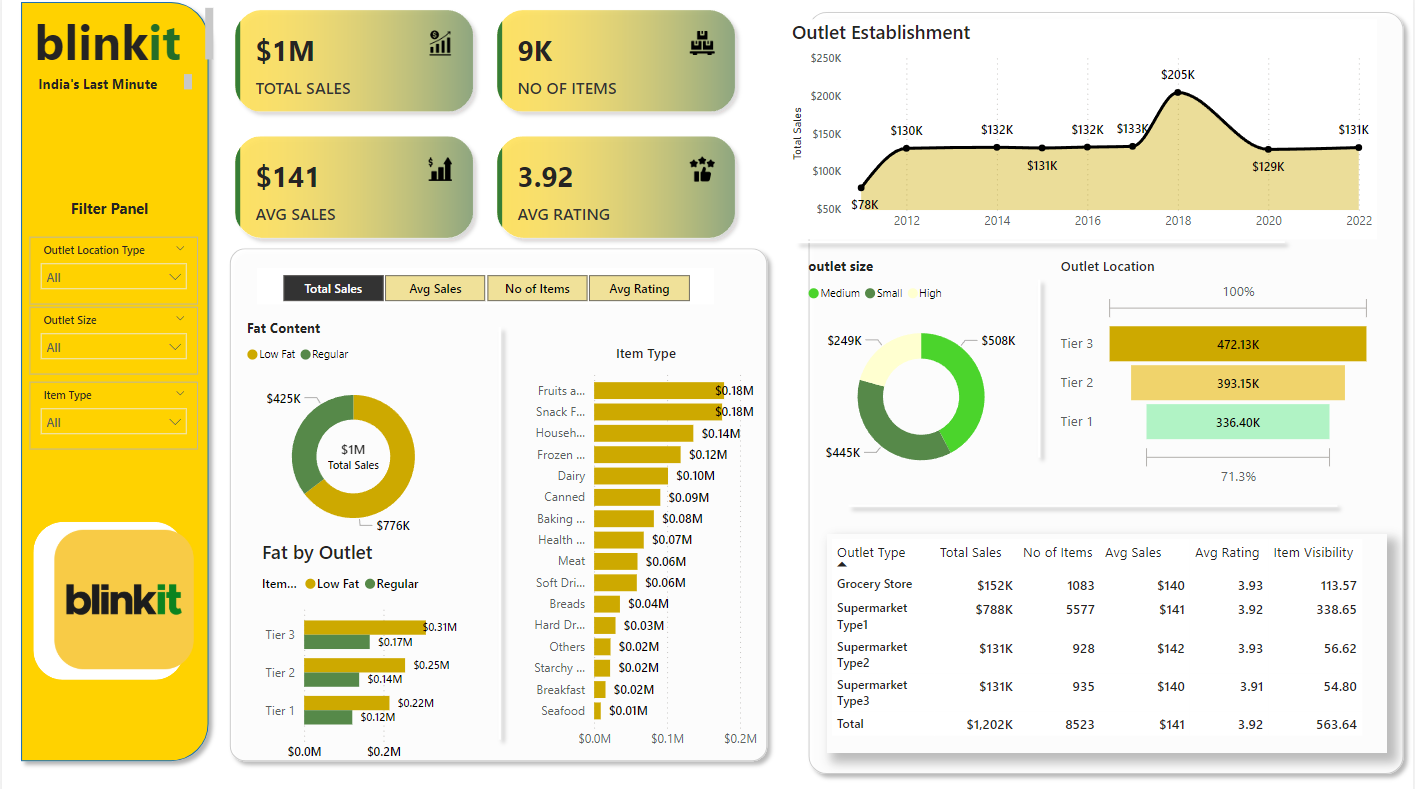

What the dashboard file says about the page in this screenshot:
{"tool":"powerbi","page":{"name":"Page 1","canvas":[1400,800],"ordinal":0},"visuals":[{"type":"shape","box":[10.5,0,204.1,771.4],"z":0},{"type":"textbox","box":[27.1,10,187.1,67.1],"z":1000},{"type":"textbox","box":[31.2,76.2,162.5,30],"z":2000},{"type":"cardVisual","fields":{"Data":["BlinkIT Grocery Data.Total Sales","BlinkIT Grocery Data.No of Items","BlinkIT Grocery Data.Avg Sales","BlinkIT Grocery Data.Avg Rating"]},"box":[215,0,531.7,261.7],"z":3000},{"type":"shape","box":[217.1,244.3,551.4,527.1],"z":3001},{"type":"donutChart","title":"Fat Content","fields":{"Category":["BlinkIT Grocery Data.Item Fat Content"],"Y":["BlinkIT Grocery Data.Total Sales"]},"box":[238.6,322.9,221.4,230],"z":3002},{"type":"slicer","fields":{"Values":["Metrics.Metrics"]},"box":[253.6,273.2,453.3,36],"z":3003},{"type":"cardVisual","fields":{"Data":["BlinkIT Grocery Data.Total Sales"]},"box":[302.9,427.1,92.9,57.1],"z":3004},{"type":"clusteredBarChart","title":"Fat by Outlet","fields":{"Y":["BlinkIT Grocery Data.Total Sales"],"Category":["BlinkIT Grocery Data.Outlet Location Type"],"Series":["BlinkIT Grocery Data.Item Fat Content"]},"box":[253.6,541.8,220.6,229.6],"z":3005},{"type":"shape","box":[454.3,322.9,80,427.1],"z":3006},{"type":"barChart","title":"Item Type","fields":{"Category":["BlinkIT Grocery Data.Item Type"],"Y":["BlinkIT Grocery Data.Total Sales"]},"box":[510,347.1,258.6,411.4],"z":3007},{"type":"shape","box":[791.4,10,608.6,774.3],"z":3008},{"type":"lineChart","title":"Outlet Establishment","fields":{"Y":["BlinkIT Grocery Data.Total Sales"],"Category":["BlinkIT Grocery Data.Outlet Establishment Year"]},"box":[778.6,25.7,585.7,218.6],"z":3009},{"type":"shape","box":[778.6,231.4,502.9,30],"z":3010},{"type":"donutChart","title":"outlet size ","fields":{"Y":["BlinkIT Grocery Data.Total Sales"],"Category":["BlinkIT Grocery Data.Outlet Size"]},"box":[795.7,261.4,234.3,232.9],"z":3011},{"type":"shape","box":[1000,275.7,58.6,194.3],"z":3012},{"type":"funnel","title":"Outlet Location","fields":{"Category":["BlinkIT Grocery Data.Outlet Location Type"],"Y":["Sum(BlinkIT Grocery Data.Sales)"]},"box":[1045.7,261.4,318.6,232.9],"z":3013},{"type":"shape","box":[831.4,494.3,502.9,30],"z":3014},{"type":"pivotTable","fields":{"Rows":["BlinkIT Grocery Data.Outlet Type"],"Values":["BlinkIT Grocery Data.Total Sales","BlinkIT Grocery Data.No of Items","BlinkIT Grocery Data.Avg Sales","BlinkIT Grocery Data.Avg Rating","Sum(BlinkIT Grocery Data.Item Visibility)"]},"box":[818.6,537.1,555.7,217.1],"z":3015},{"type":"slicer","fields":{"Values":["BlinkIT Grocery Data.Outlet Location Type"]},"box":[27.1,241.4,167.1,67.1],"z":3016},{"type":"slicer","fields":{"Values":["BlinkIT Grocery Data.Outlet Size"]},"box":[27.1,311.4,167.1,67.1],"z":3017},{"type":"slicer","fields":{"Values":["BlinkIT Grocery Data.Item Type"]},"box":[27.1,385.7,167.1,67.1],"z":3018},{"type":"textbox","box":[62.9,198.6,97.1,32.9],"z":3019},{"type":"shape","box":[31.4,524.3,150,157.1],"z":3020},{"type":"image","box":[47.1,524.3,148.6,154.3],"z":3021}]}

Visuals, with their boxes in screenshot pixels (x1, y1, x2, y2), scaled from the page's 1400x800 canvas onto the 1415x789 screenshot:
shape: 11/0/217/761
textbox: 27/10/216/76
textbox: 32/75/196/105
cardVisual - BlinkIT Grocery Data.Total Sales x BlinkIT Grocery Data.No of Items: 217/0/755/258
shape: 219/241/777/761
"Fat Content" donutChart: 241/318/465/545
slicer - Metrics.Metrics: 256/269/714/305
cardVisual - BlinkIT Grocery Data.Total Sales: 306/421/400/478
"Fat by Outlet" clusteredBarChart: 256/534/479/761
shape: 459/318/540/740
"Item Type" barChart: 515/342/777/748
shape: 800/10/1414/774
"Outlet Establishment" lineChart: 787/25/1379/241
shape: 787/228/1295/258
"outlet size " donutChart: 804/258/1041/488
shape: 1011/272/1070/464
"Outlet Location" funnel: 1057/258/1379/488
shape: 840/488/1349/517
pivotTable - BlinkIT Grocery Data.Outlet Type x BlinkIT Grocery Data.Total Sales: 827/530/1389/744
slicer - BlinkIT Grocery Data.Outlet Location Type: 27/238/196/304
slicer - BlinkIT Grocery Data.Outlet Size: 27/307/196/373
slicer - BlinkIT Grocery Data.Item Type: 27/380/196/447
textbox: 64/196/162/228
shape: 32/517/183/672
image: 48/517/198/669
